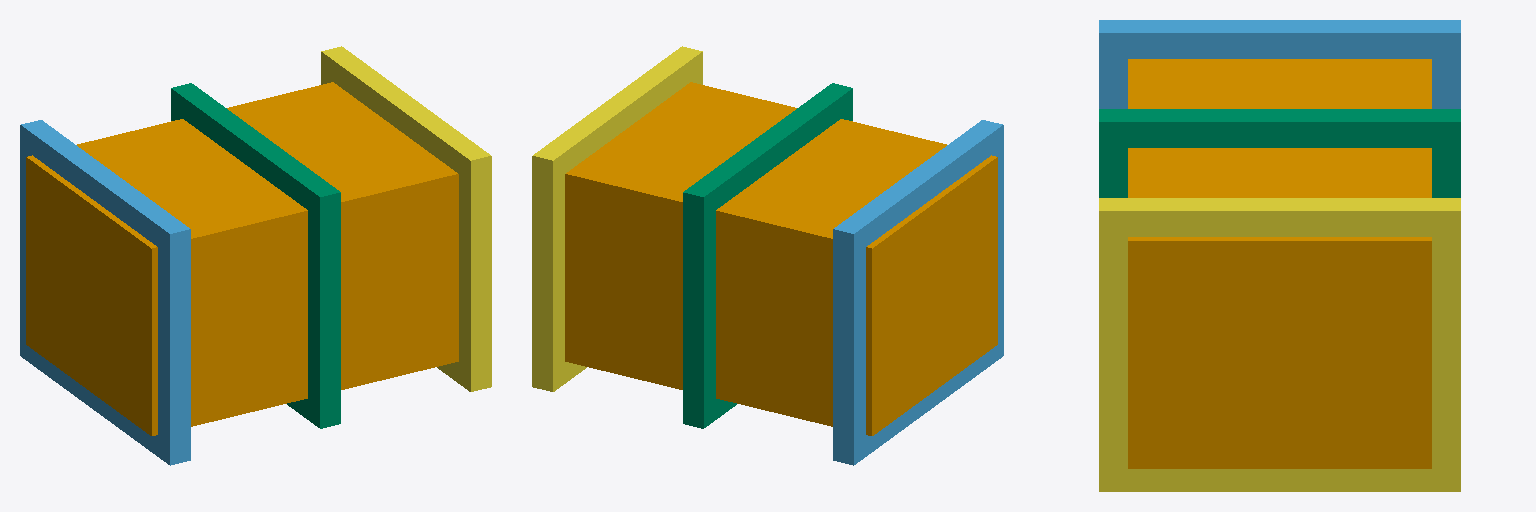
robot.urdf — debris034:
<?xml version="1.0" ?>
<robot name="debris034">

<link name="debris034">
<visual> <origin xyz="0 0 0" rpy="0 0 0" />
<geometry> <box size="0.80 0.52 0.43"/> </geometry>
</visual>
<collision> <origin xyz="0 0 0" rpy="0 0 0" />
<geometry> <box size="0.80 0.52 0.43"/> </geometry>
</collision>
<inertial> <origin xyz="0 0 0" rpy="0 0 0" />
<mass value="10.0" />
<inertia ixx="0.5607" ixy="0" ixz="0" iyy="0.5607" iyz="0" izz="0.5607" />
</inertial>
</link>
<gazebo reference="debris034"> <material>Gazebo/WoodFloor</material> </gazebo>

<link name="debris0340">
<visual> <origin xyz="-0.36 0 0" rpy="0 0 0" />
<geometry> <box size="0.05 0.62 0.53"/> </geometry>
</visual>
<collision> <origin xyz="-0.36 0 0" rpy="0 0 0" />
<geometry> <box size="0.05 0.62 0.53"/> </geometry>
</collision>
<inertial> <origin xyz="0 0 0" rpy="0 0 0" />
<mass value="0.1" />
<inertia ixx="0.0100" ixy="0" ixz="0" iyy="0.0100" iyz="0" izz="0.0100" />
</inertial>
</link>
<gazebo reference="debris0340"> <material>Gazebo/WoodFloor</material> </gazebo>

<joint name="debris0340joint" type="fixed">
<parent link="debris034"/>
<child link="debris0340"/>
<origin xyz="0 0 0" rpy="0 0 0" />
</joint>

<link name="debris0341">
<visual> <origin xyz="0.00 0 0" rpy="0 0 0" />
<geometry> <box size="0.05 0.62 0.53"/> </geometry>
</visual>
<collision> <origin xyz="0.00 0 0" rpy="0 0 0" />
<geometry> <box size="0.05 0.62 0.53"/> </geometry>
</collision>
<inertial> <origin xyz="0 0 0" rpy="0 0 0" />
<mass value="0.1" />
<inertia ixx="0.0100" ixy="0" ixz="0" iyy="0.0100" iyz="0" izz="0.0100" />
</inertial>
</link>
<gazebo reference="debris0341"> <material>Gazebo/WoodFloor</material> </gazebo>

<joint name="debris0341joint" type="fixed">
<parent link="debris034"/>
<child link="debris0341"/>
<origin xyz="0 0 0" rpy="0 0 0" />
</joint>

<link name="debris0342">
<visual> <origin xyz="0.36 0 0" rpy="0 0 0" />
<geometry> <box size="0.05 0.62 0.53"/> </geometry>
</visual>
<collision> <origin xyz="0.36 0 0" rpy="0 0 0" />
<geometry> <box size="0.05 0.62 0.53"/> </geometry>
</collision>
<inertial> <origin xyz="0 0 0" rpy="0 0 0" />
<mass value="0.1" />
<inertia ixx="0.0100" ixy="0" ixz="0" iyy="0.0100" iyz="0" izz="0.0100" />
</inertial>
</link>
<gazebo reference="debris0342"> <material>Gazebo/WoodFloor</material> </gazebo>

<joint name="debris0342joint" type="fixed">
<parent link="debris034"/>
<child link="debris0342"/>
<origin xyz="0 0 0" rpy="0 0 0" />
</joint>

</robot>

--- Facts derived from the render (not from the file) ---
Views: 3 orthographic renders of the robot side by side, from view 1: azimuth 30°, elevation 25°; view 2: azimuth 150°, elevation 25°; view 3: azimuth 270°, elevation 25°.
Model debris034 with 4 links and 3 joints (3 fixed), rooted at debris034, posed all joints at 0.
Visible links, largest first — view 1: debris034, debris0340, debris0342, debris0341; view 2: debris034, debris0340, debris0342, debris0341; view 3: debris034, debris0342, debris0340, debris0341.
Boxes of the visible links, left/top/right/bottom form: debris034: left=26, top=82, right=458, bottom=435; debris0340: left=20, top=120, right=190, bottom=465; debris0342: left=321, top=46, right=491, bottom=391; debris0341: left=171, top=83, right=340, bottom=428; debris034: left=565, top=82, right=997, bottom=435; debris0340: left=833, top=120, right=1003, bottom=465; debris0342: left=532, top=46, right=702, bottom=391; debris0341: left=683, top=83, right=852, bottom=428; debris034: left=1128, top=59, right=1431, bottom=468; debris0342: left=1099, top=198, right=1460, bottom=491; debris0340: left=1099, top=20, right=1460, bottom=108; debris0341: left=1099, top=109, right=1460, bottom=197.
Bounding box of the posed robot: 0.8 × 0.62 × 0.53 m (x, y, z).
Geometry: primitives only (box / cylinder / sphere), no mesh files.
